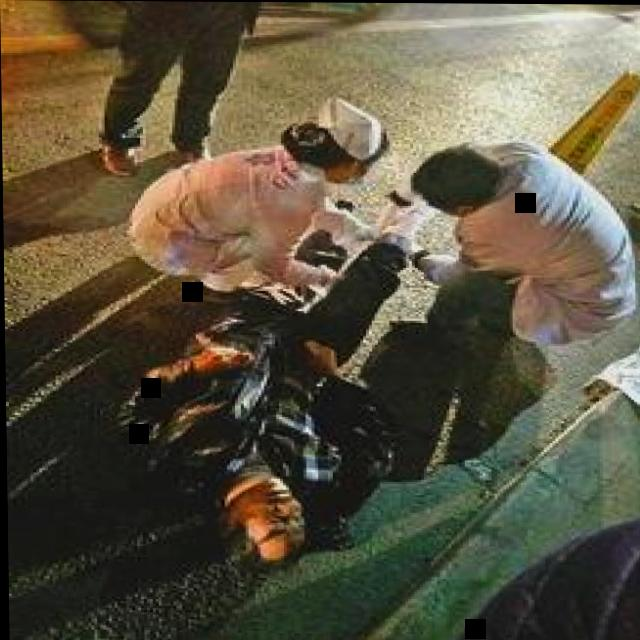Fall-Detected: (87, 210, 430, 572)
